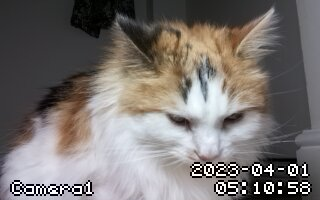clara: (12, 9, 286, 199)
